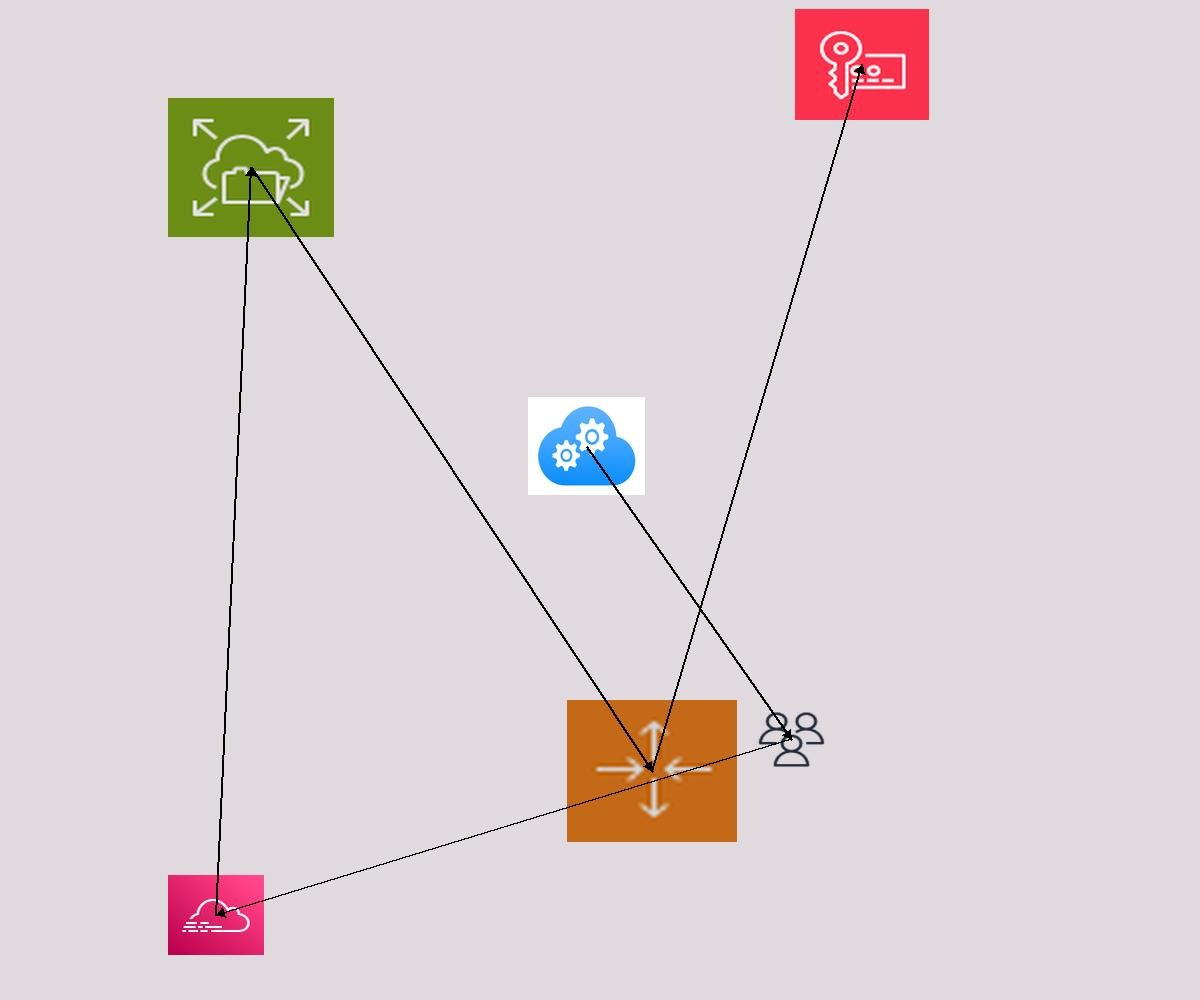AWS-CloudTrail: (168, 875, 264, 955)
AWS-EFS: (168, 98, 334, 237)
AWS-Key-Management-Service: (795, 9, 929, 120)
AWS-Res_Users: (756, 710, 827, 769)
AWS-Scaling-group: (567, 700, 737, 842)
Azure_cloud_services: (528, 397, 645, 495)
